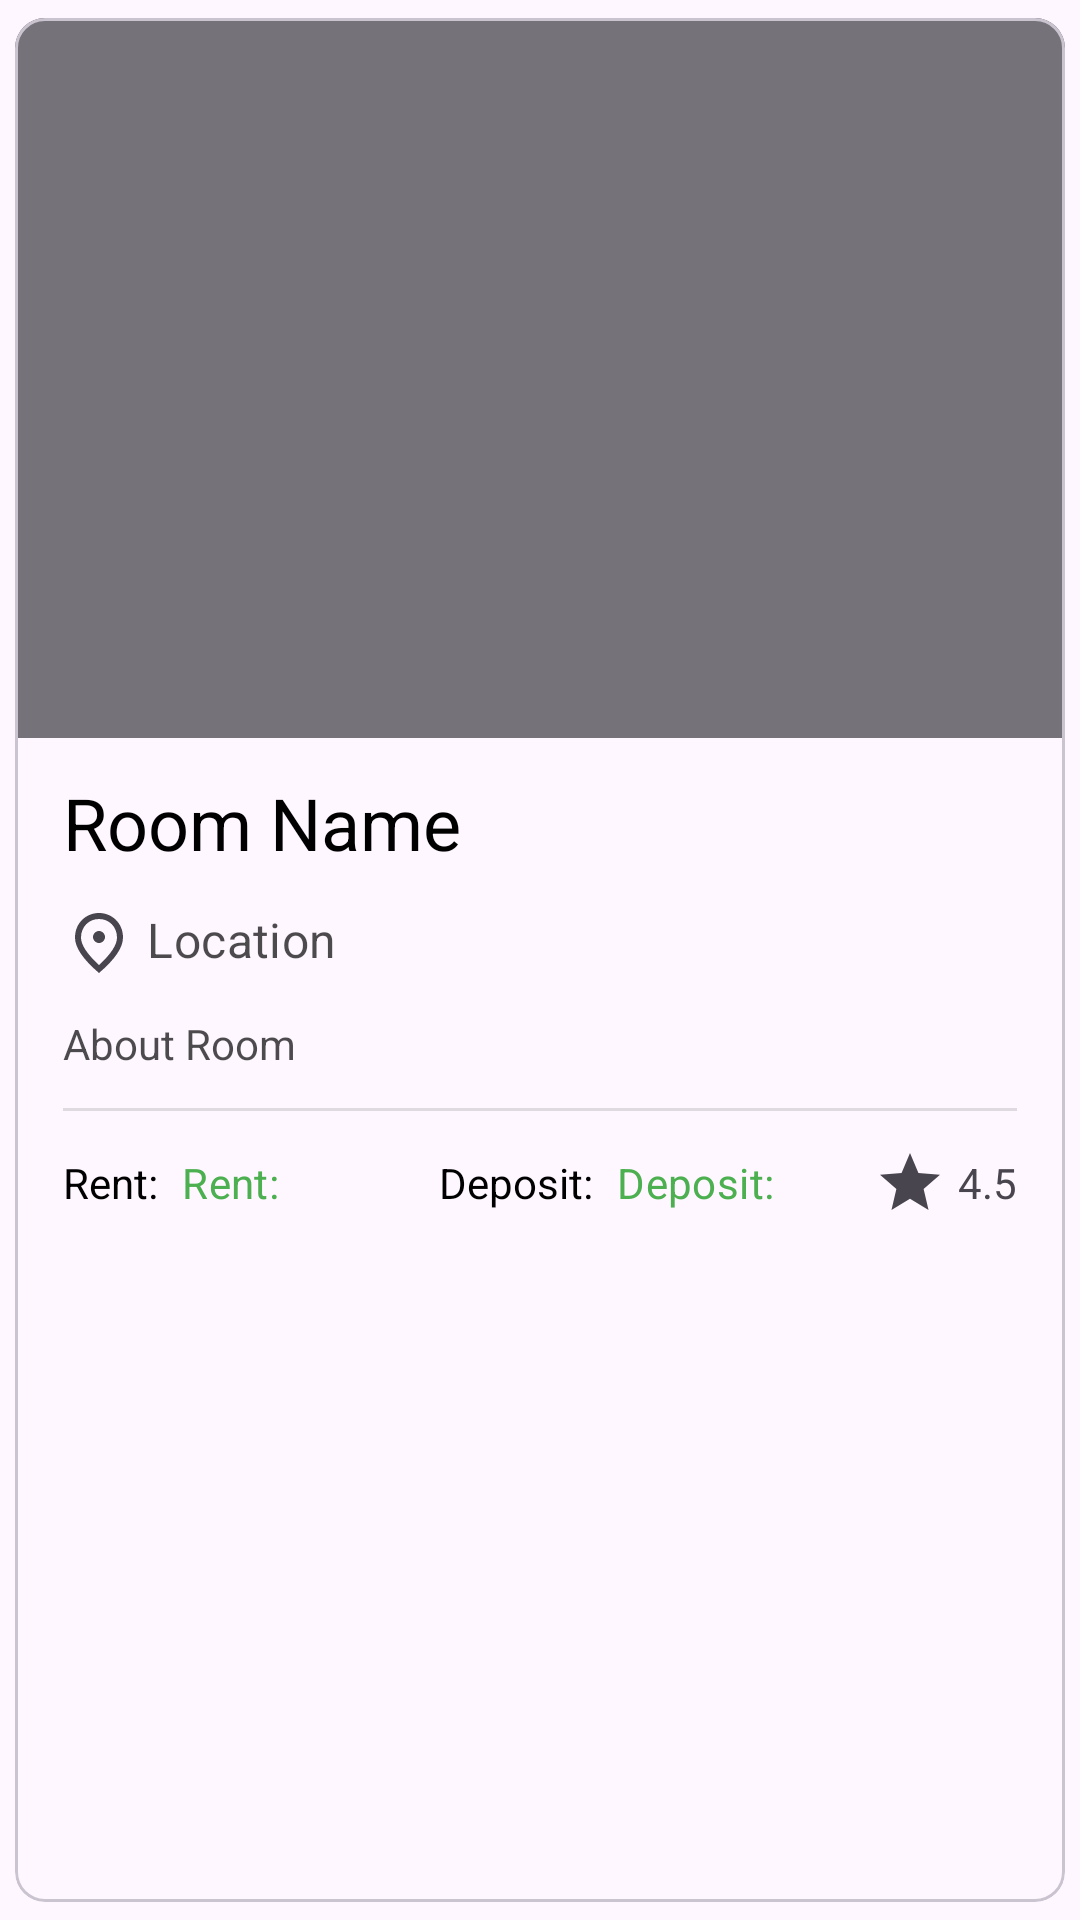

Named icons in this screenshot (1080*1920) and their bounding boxes, (x1, y1, x2, y2):
star: (880, 1153, 940, 1210)
